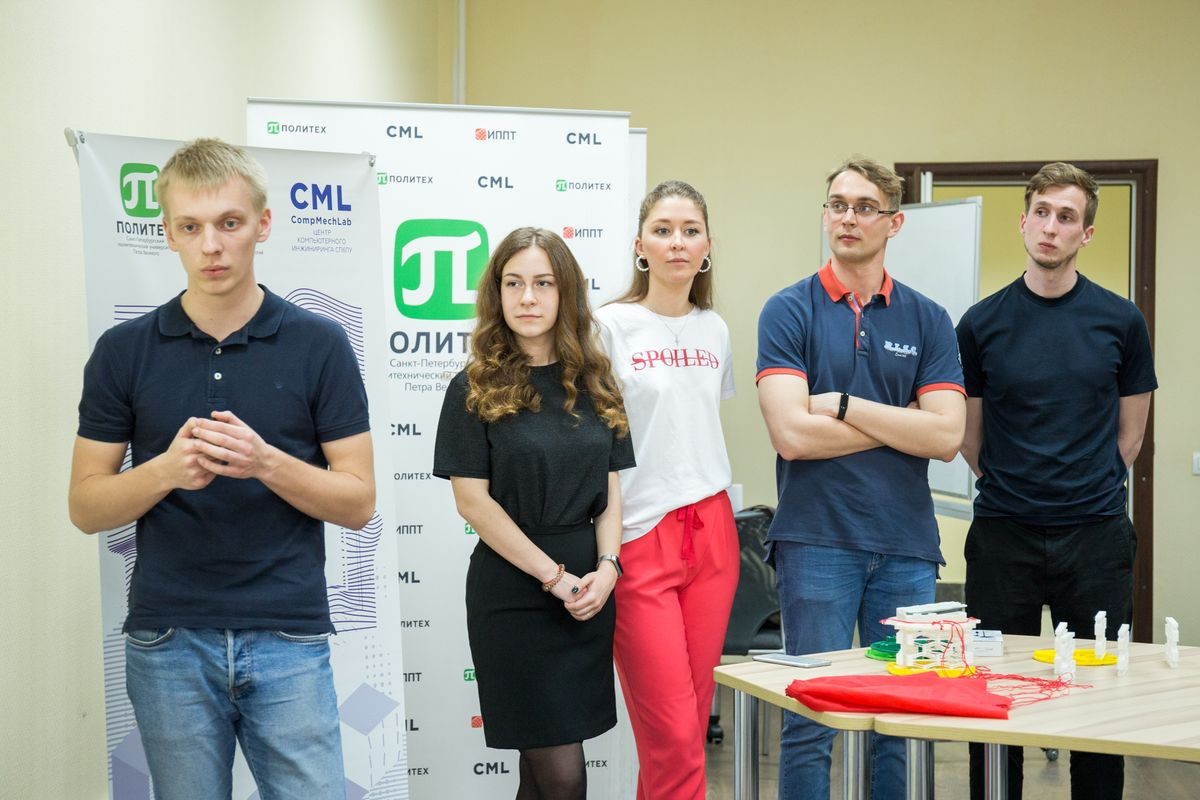students: (66, 133, 378, 797), (756, 158, 969, 795), (956, 160, 1159, 795), (435, 224, 637, 796), (591, 179, 743, 794)
